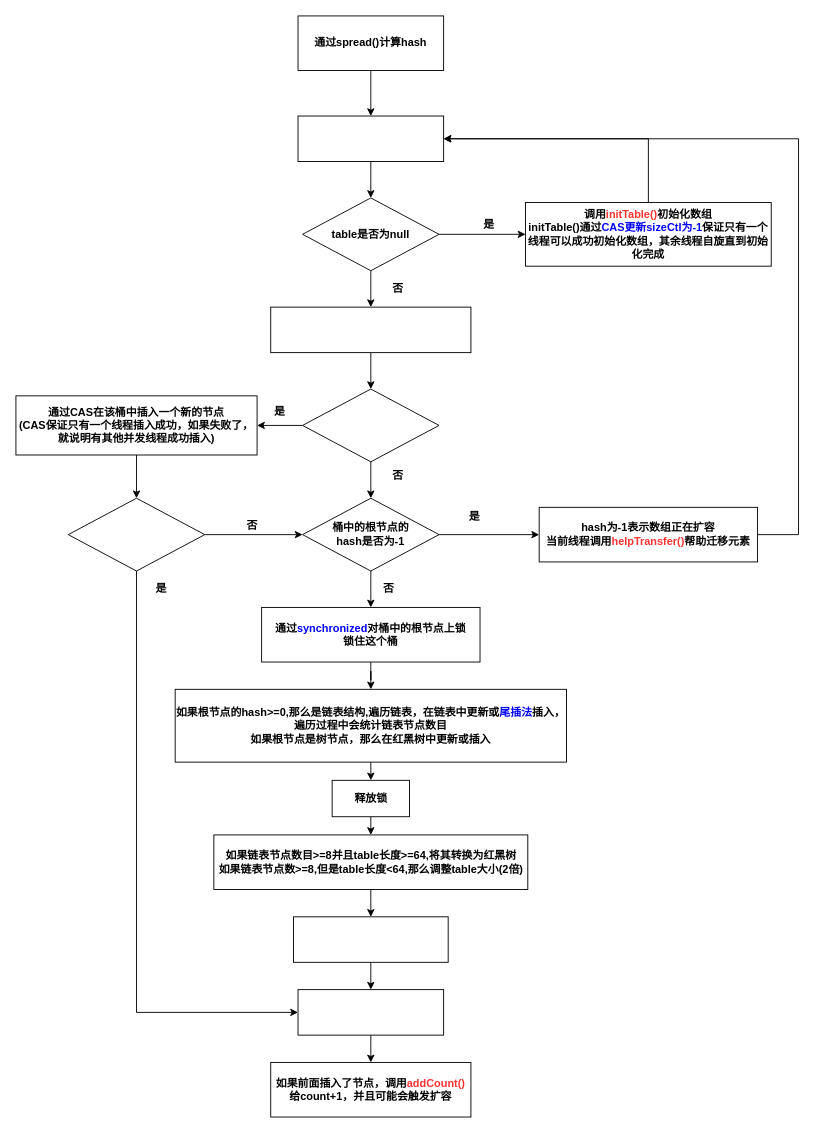
Image size: 822x1133. Some labels were removed from this diagram. Each missing label, with the centre of its shape:
"CAS插入是否成功" belongs at pixel 136 534.
"如果前面更新了节点，返回旧值" belongs at pixel 370 939.
"开始循环" belongs at pixel 370 138.
"循环结束" belongs at pixel 370 1012.
"桶是否为null" belongs at pixel 370 425.
"通过hash在table中 CAS 取出对应的桶" belongs at pixel 370 329.
